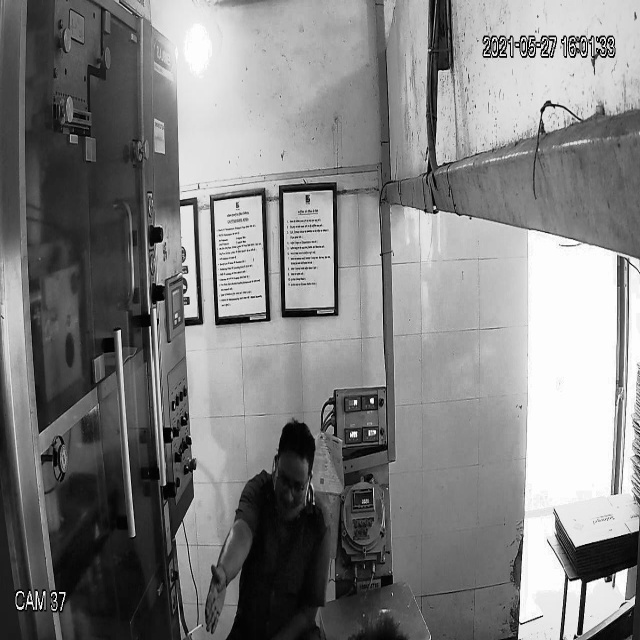Gafas: (268, 460, 313, 506)
